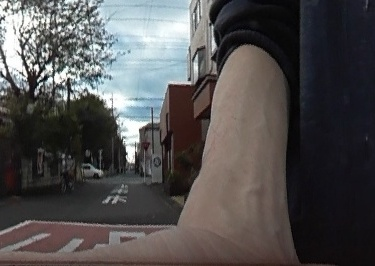person: (61, 151, 75, 188)
